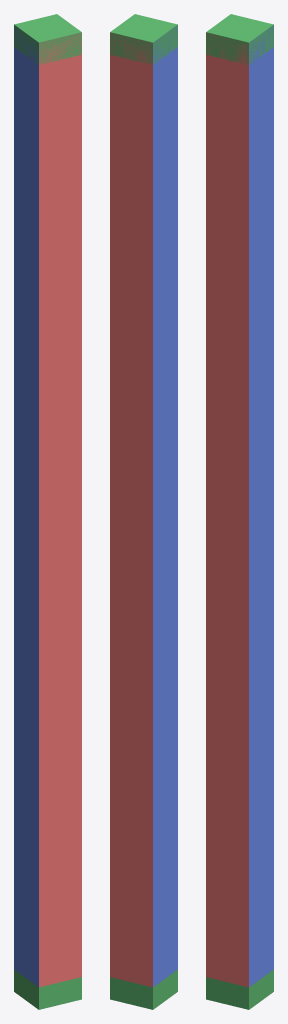
File: y_init_and_meas_bridge.pipe_length_10_0.dae
The picture shows the model from 3 angles, left to right: view 1: azimuth 30°, elevation 25°; view 2: azimuth 150°, elevation 25°; view 3: azimuth 330°, elevation 25°; orthographic projection.
Parts seen in each view (by area): view 1: ZXO (×4), Y (×5), ZXX (×2); view 2: ZXO (×4), Y (×5), ZXX (×2); view 3: ZXO (×4), Y (×5), ZXX (×2).
Boxes of the visible parts, box(x1,y1,x2,y2) form: ZXO (×4): box(14, 25, 81, 987); Y (×5): box(14, 14, 81, 1009); ZXX (×2): box(14, 474, 81, 537); ZXO (×4): box(110, 26, 177, 987); Y (×5): box(110, 14, 177, 1009); ZXX (×2): box(110, 474, 177, 537); ZXO (×4): box(206, 25, 273, 987); Y (×5): box(206, 14, 273, 1009); ZXX (×2): box(206, 474, 273, 537).
Size of the model in its own units: 1 by 1 by 21.5.
